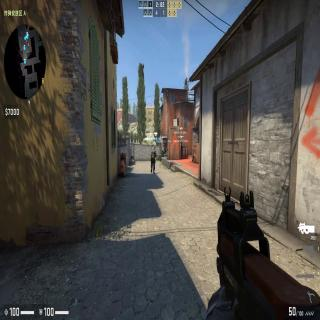CT-Body: (150, 146, 156, 173)
CT-Head: (152, 146, 156, 150), (163, 146, 165, 149)
